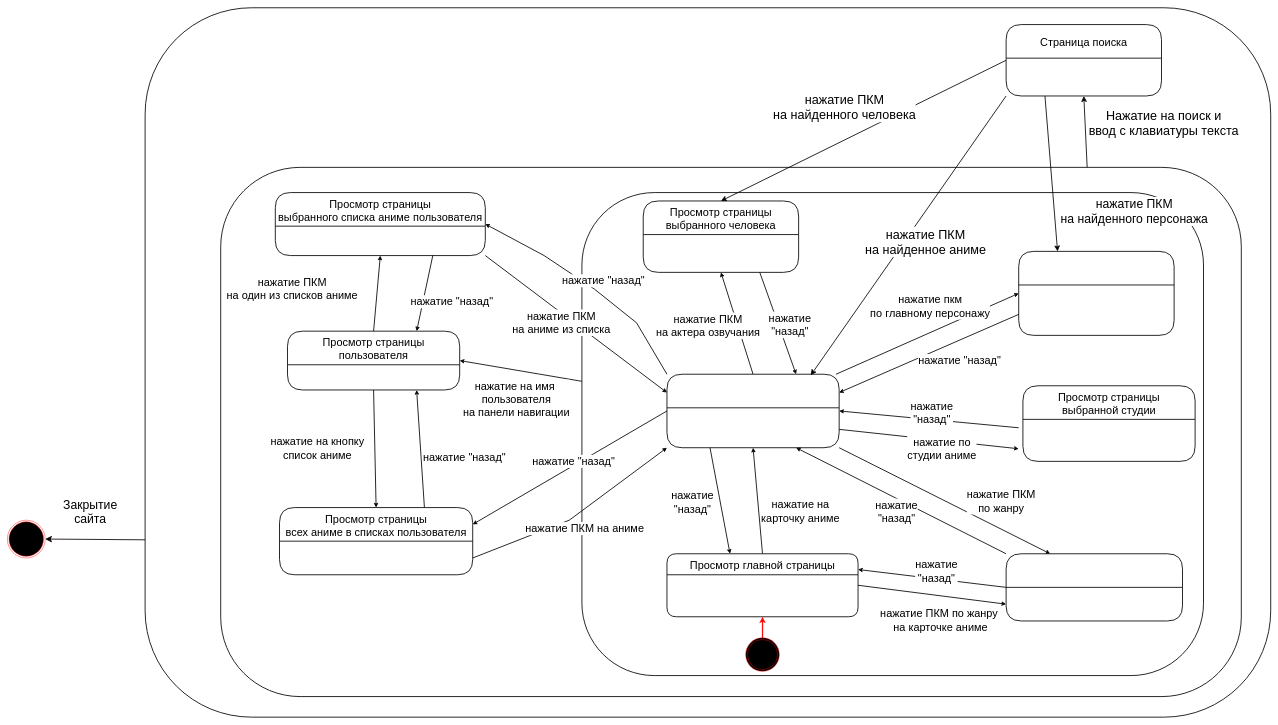
Some shapes in this 1278 by 725 pixel diagram are drawn without their labels. Here are the shapes that lost their labels. From the top down, the centre of each, then its label:
(x=1096, y=293): Просмотр страницы выбранного персонажа
(x=752, y=411): Просмотр страницы выбранного аниме
(x=1094, y=587): Просмотр страницы выбранного жанра
